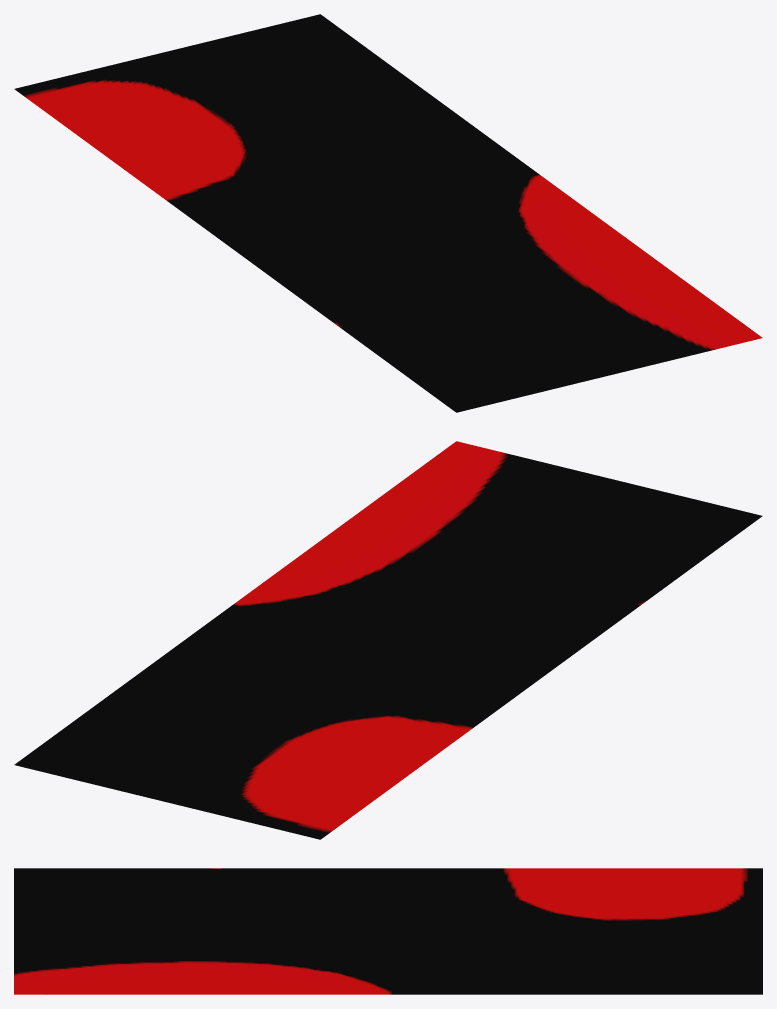
Rendered from Fluvial_Plane_7_alt.fbx.
The picture shows the model from 3 angles, top to bottom: view 1: azimuth 30°, elevation 25°; view 2: azimuth 150°, elevation 25°; view 3: azimuth 270°, elevation 25°; orthographic projection. The views are drawn at different scales.
Visible parts, largest first — view 1: Plane_test_7_alt; view 2: Plane_test_7_alt; view 3: Plane_test_7_alt.
Boxes of the visible parts, box(x1,y1,x2,y2) form: Plane_test_7_alt: box(14, 14, 762, 412); Plane_test_7_alt: box(14, 441, 762, 839); Plane_test_7_alt: box(14, 868, 762, 994).
Size of the model in its own units: 8000 by 0 by 20000.
